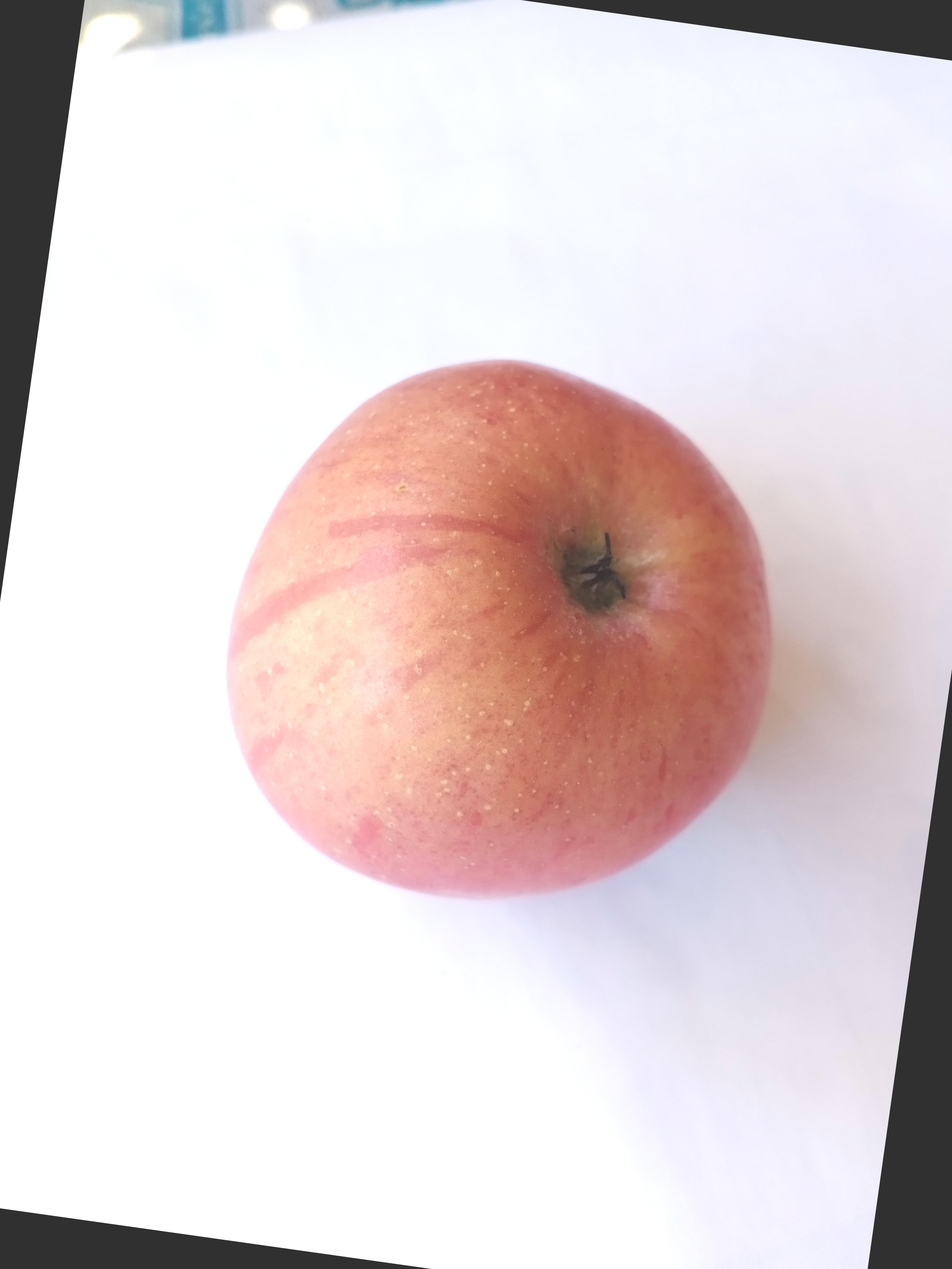Apple Ripe: (281, 216, 952, 903)
